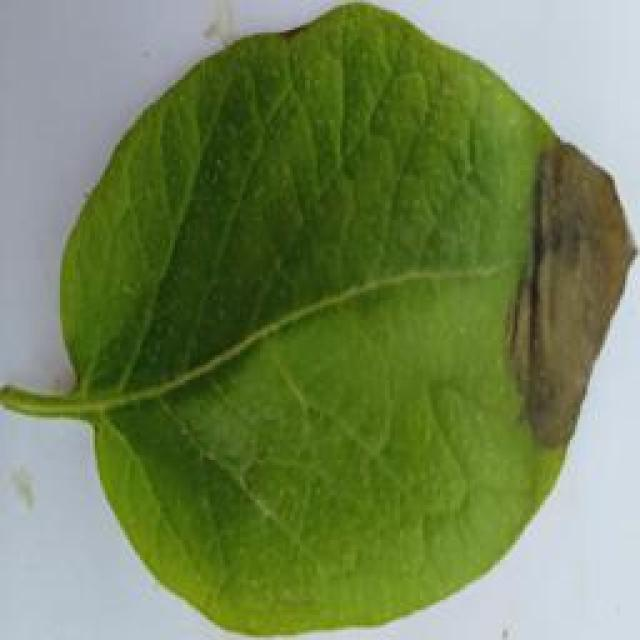Potato_Late_Blight: (7, 6, 626, 635)
